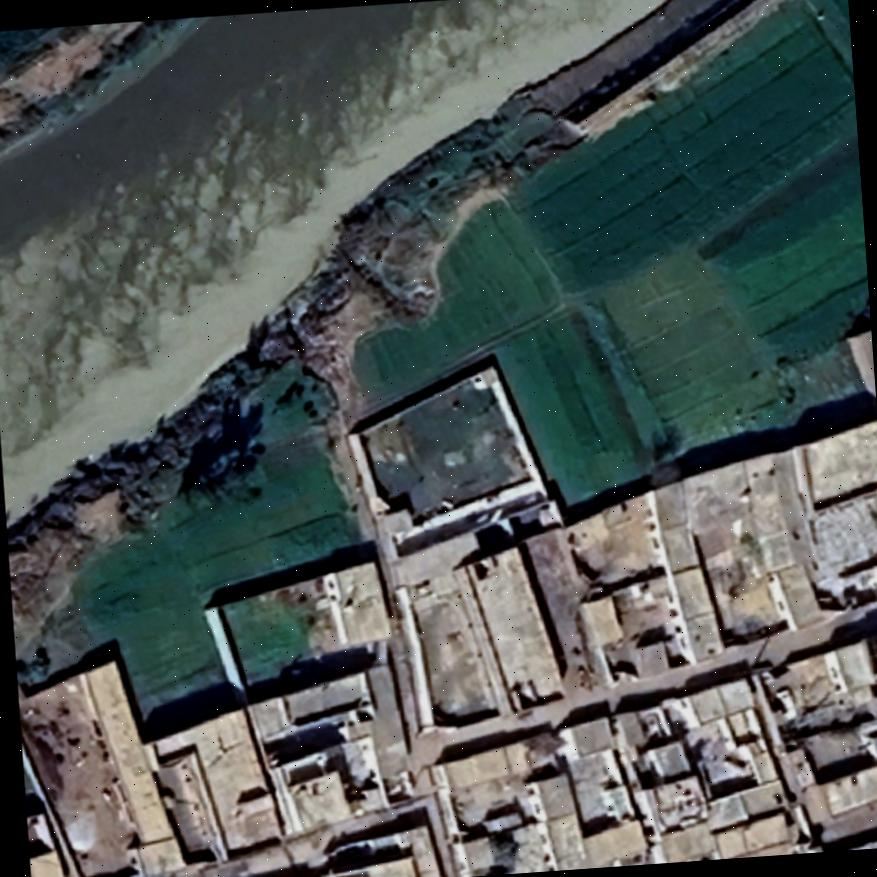Solarpanel: (859, 622, 877, 659)
